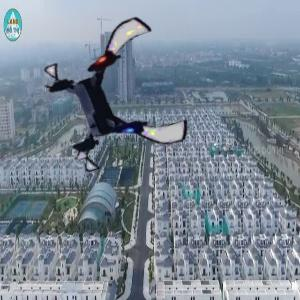drone: (48, 27, 185, 164)
